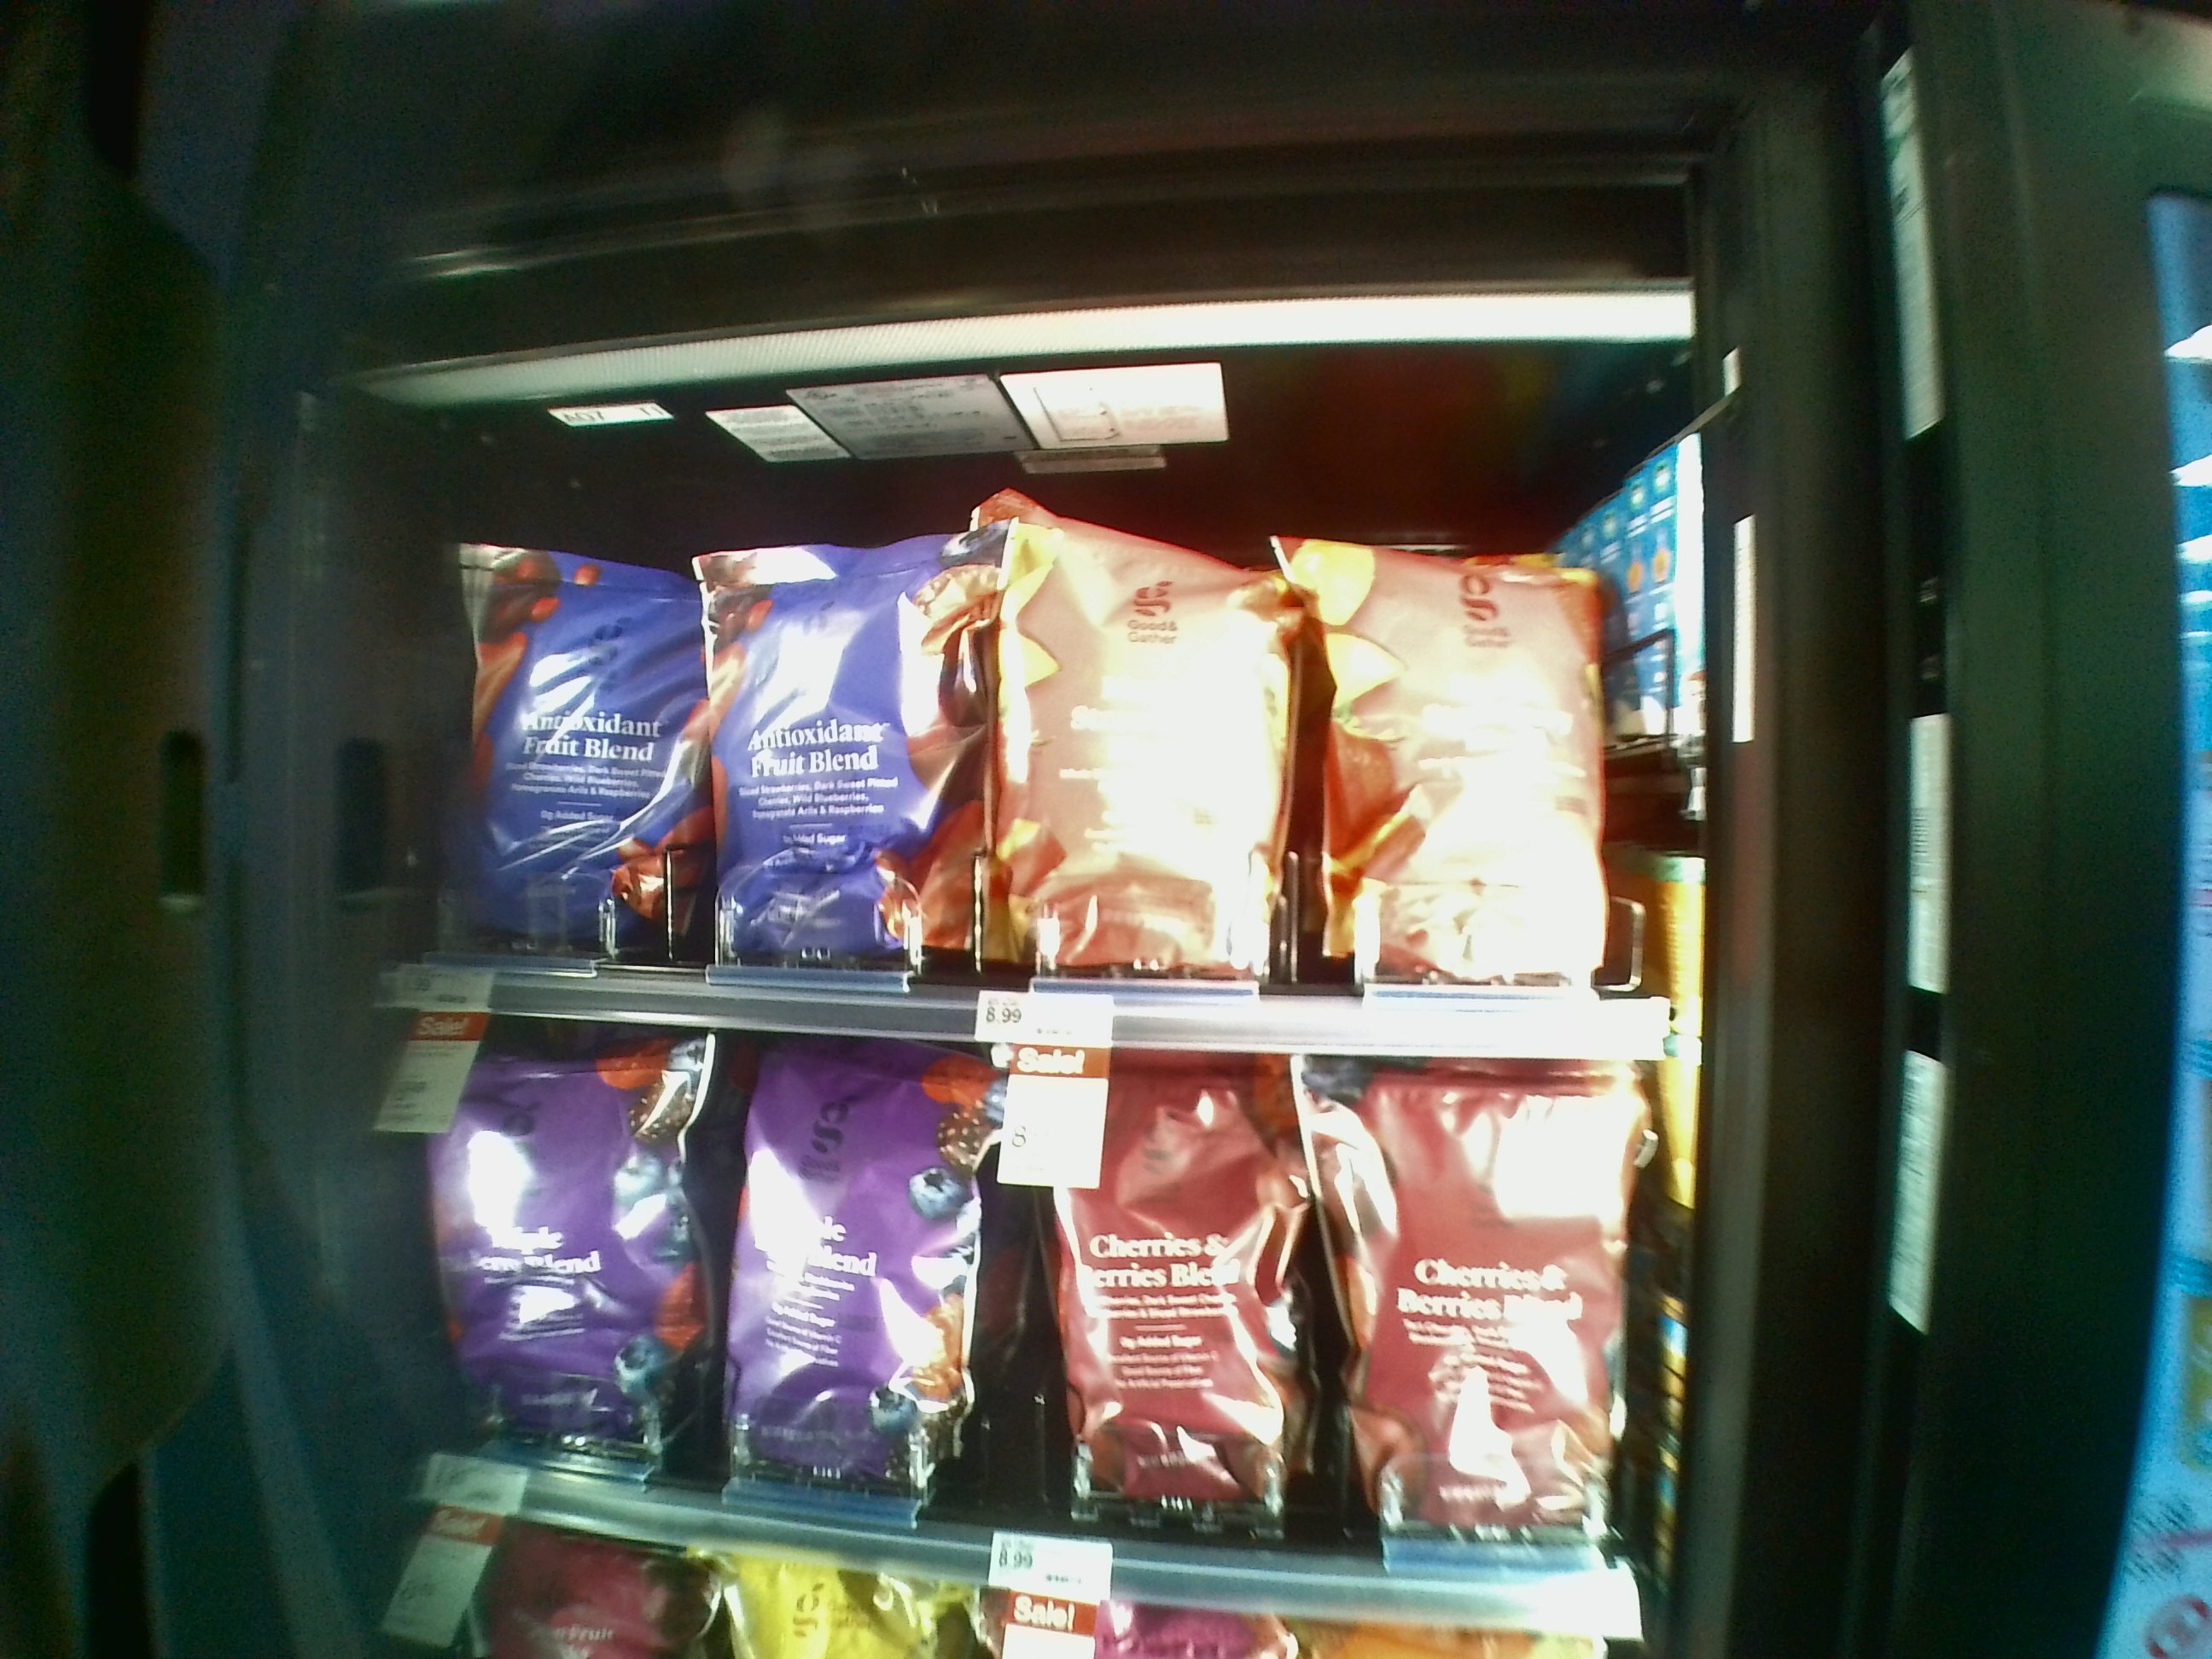shelf: (354, 376, 1709, 1077), (420, 1033, 1672, 1589)
